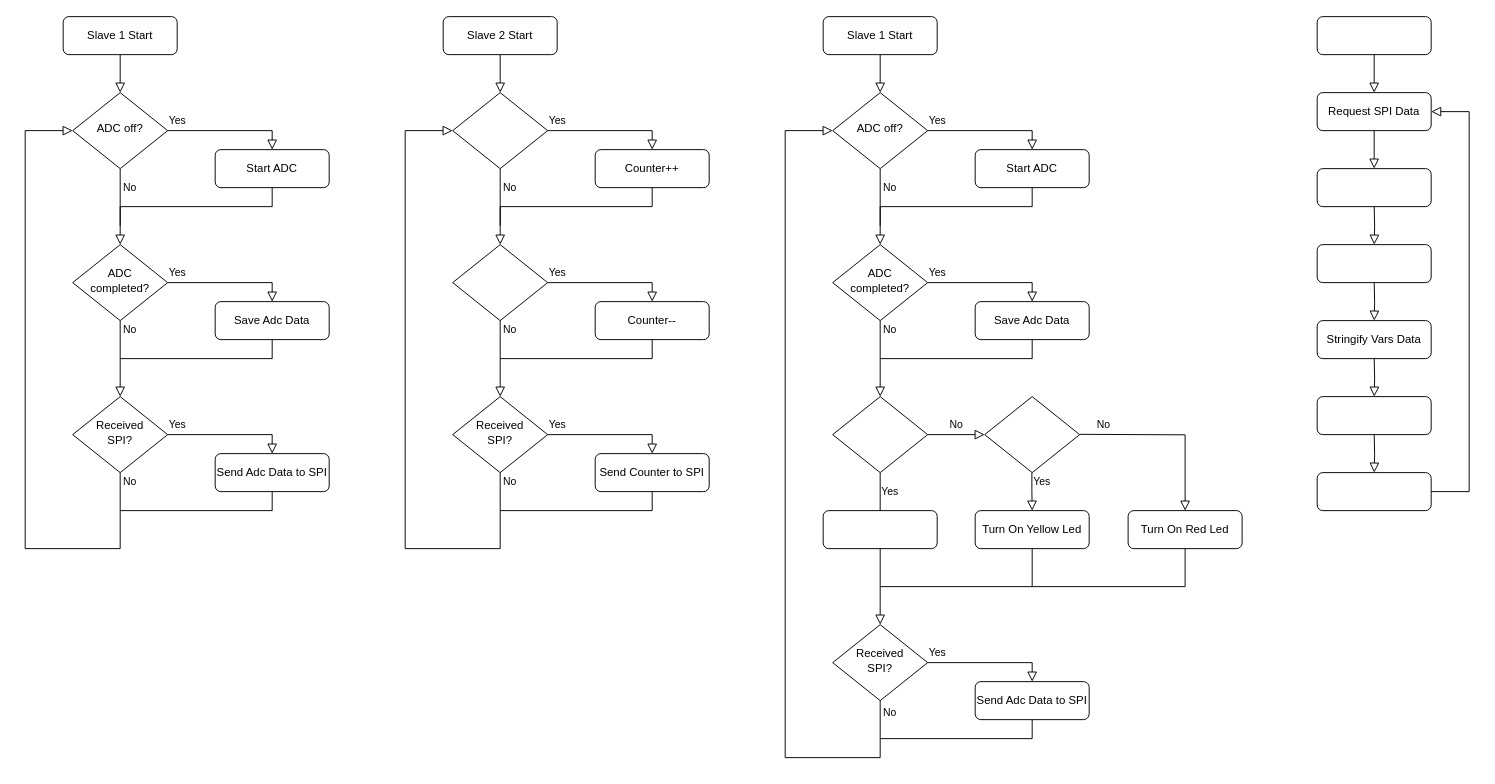
The diagram is 1495 pixels wide and 784 high, and some of its shapes have lost their labels. The shapes that lost their labels are listed below. From the top down, each one's box as (x1, y1, x2, y2) in pixels, then its label:
(1316, 16, 1431, 55): Master Start
(452, 92, 548, 169): Push1 Pressed?
(1316, 168, 1431, 207): Save SPI Data to Var
(452, 244, 548, 321): Push2 Pressed?
(1316, 244, 1431, 283): Select Next Slave
(832, 396, 928, 473): Adc Data < 25?
(984, 396, 1080, 473): Adc Data < 37?
(1316, 396, 1431, 435): Display Strings in LCD
(1316, 472, 1431, 511): Send Strings to UART
(822, 510, 937, 549): Turn On Green Led
